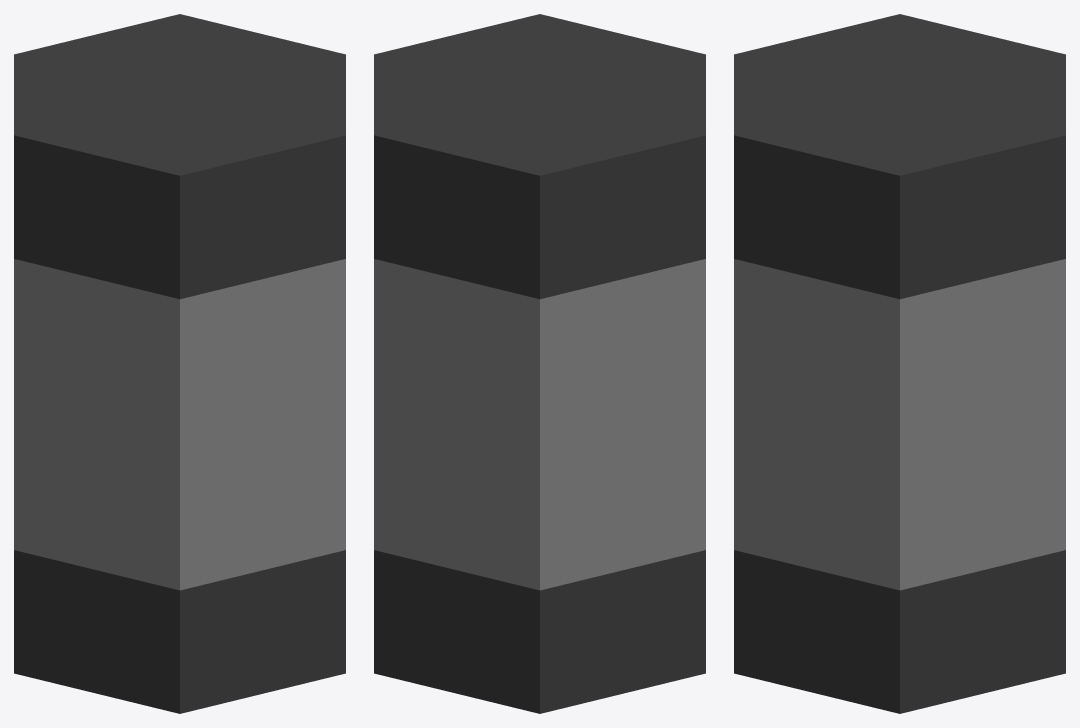
File: can_A.FBX
3 views of the same model, side by side, from view 1: azimuth 30°, elevation 25°; view 2: azimuth 150°, elevation 25°; view 3: azimuth 270°, elevation 25° (orthographic).
Visible parts, largest first — view 1: can_A; view 2: can_A; view 3: can_A.
Part boxes in pixels (box(x1,y1,x2,y2)): can_A: box(14, 14, 345, 713); can_A: box(374, 14, 705, 713); can_A: box(734, 14, 1065, 713).
Size of the model in its own units: 5.64 by 8.74 by 4.88.
